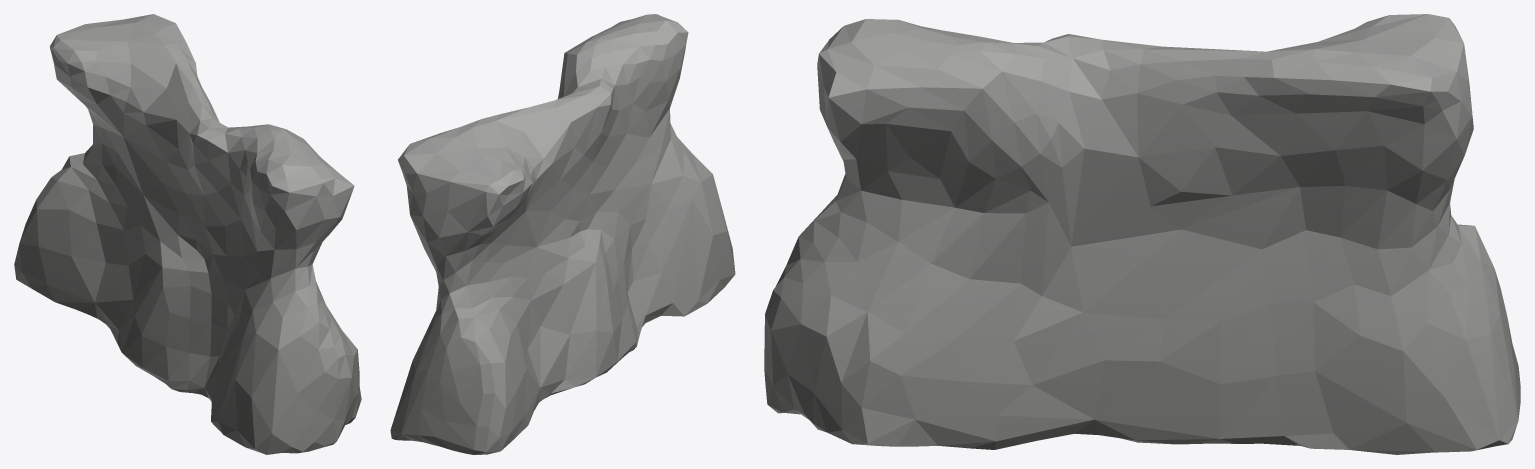
Rendered from Cavern_Wall_Middle-02.fbx.
The picture shows the model from 3 angles, left to right: view 1: azimuth 30°, elevation 25°; view 2: azimuth 150°, elevation 25°; view 3: azimuth 270°, elevation 25°; orthographic projection. The views are drawn at different scales.
Parts seen in each view (by area): view 1: Cavern_Wall_Middle-02; view 2: Cavern_Wall_Middle-02; view 3: Cavern_Wall_Middle-02.
Part boxes in pixels (bbox=[...]): Cavern_Wall_Middle-02: bbox=[14, 14, 361, 454]; Cavern_Wall_Middle-02: bbox=[390, 14, 735, 454]; Cavern_Wall_Middle-02: bbox=[764, 14, 1520, 454].
Size of the model in its own units: 598 by 1170 by 2038.
Materials: 1 (1 with a texture image).
